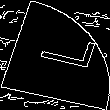L_W: (20, 33, 90, 77)
